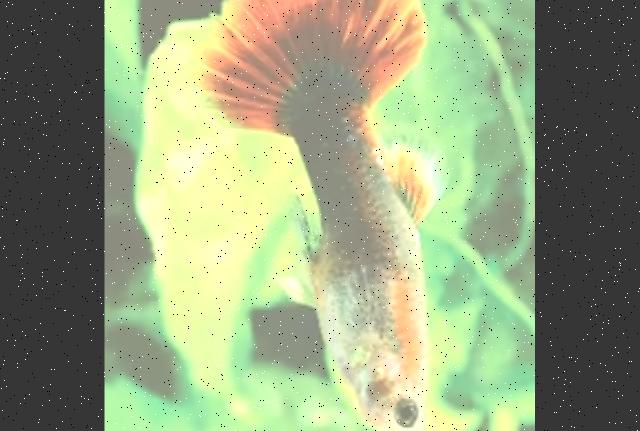Mulut: (376, 414, 443, 431)
Sirip Anal: (272, 176, 339, 270)
Sirip Dada: (308, 252, 408, 358)
Sirip Ekor: (174, 0, 438, 151)
Sirip Perut: (262, 252, 332, 320)
Sirip Punggung: (360, 127, 455, 232)
